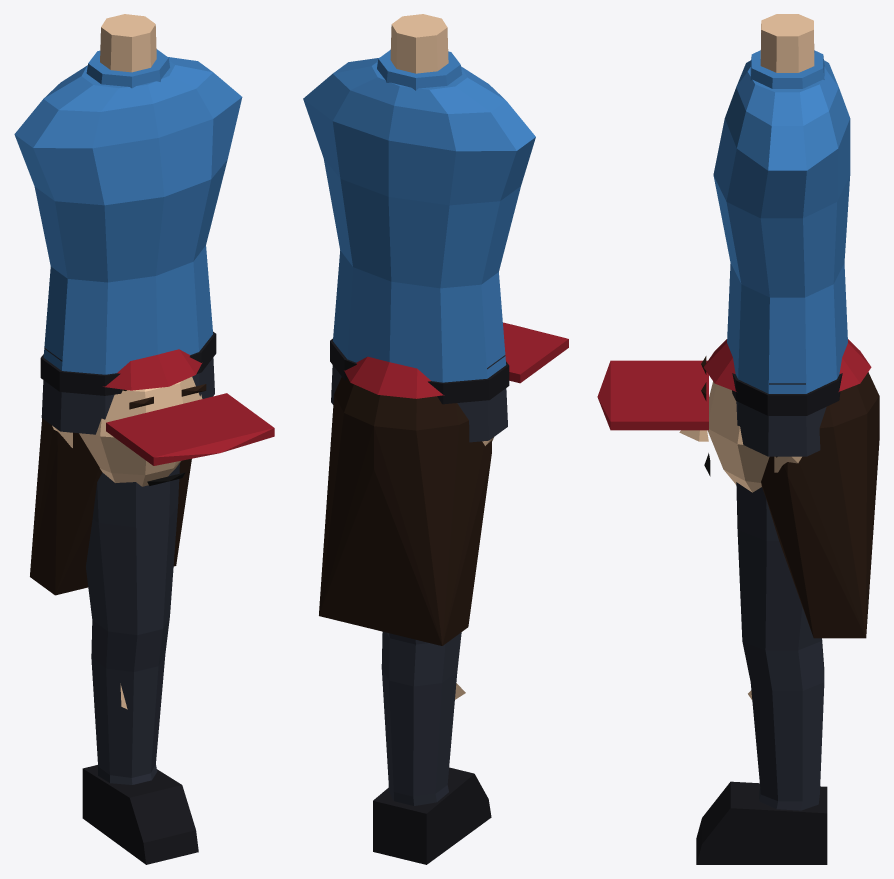
The model's file is emberek.glb.
3 views of the same model, side by side, from view 1: azimuth 30°, elevation 25°; view 2: azimuth 150°, elevation 25°; view 3: azimuth 270°, elevation 25° (orthographic). The views are drawn at different scales.
Parts seen in each view (by area): view 1: FG_torso, FG_leg, FG_cap, FG_hair_long, FG_head; view 2: FG_torso, FG_hair_long, FG_leg, FG_cap, FG_hair_buzz; view 3: FG_torso, FG_leg, FG_hair_long, FG_cap, FG_head, FG_hair_buzz.
Part boxes in pixels (x1,y1,x2,y2): FG_torso: (14, 14, 242, 434); FG_leg: (82, 463, 198, 864); FG_cap: (103, 349, 274, 465); FG_hair_long: (30, 389, 191, 595); FG_head: (52, 377, 206, 486); FG_torso: (303, 14, 535, 442); FG_hair_long: (319, 378, 491, 645); FG_leg: (373, 631, 491, 864); FG_cap: (344, 322, 568, 398); FG_hair_buzz: (334, 377, 468, 430); FG_torso: (713, 14, 850, 456); FG_leg: (696, 482, 827, 864); FG_hair_long: (761, 373, 879, 638); FG_cap: (597, 339, 871, 430); FG_head: (679, 356, 801, 492); FG_hair_buzz: (819, 372, 879, 428).
Size of the model in its own units: 0.4376 by 1.6 by 0.4949.
